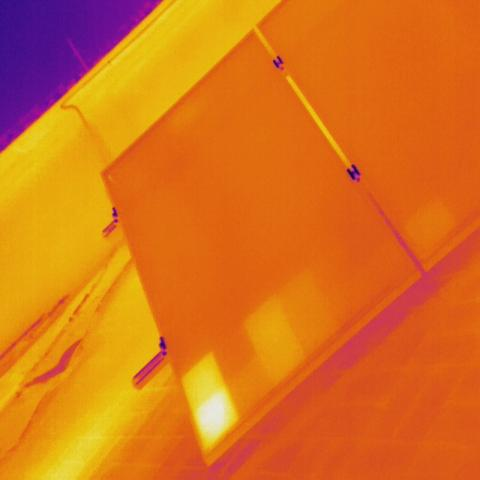fault: (241, 295, 330, 388), (177, 353, 248, 450)
